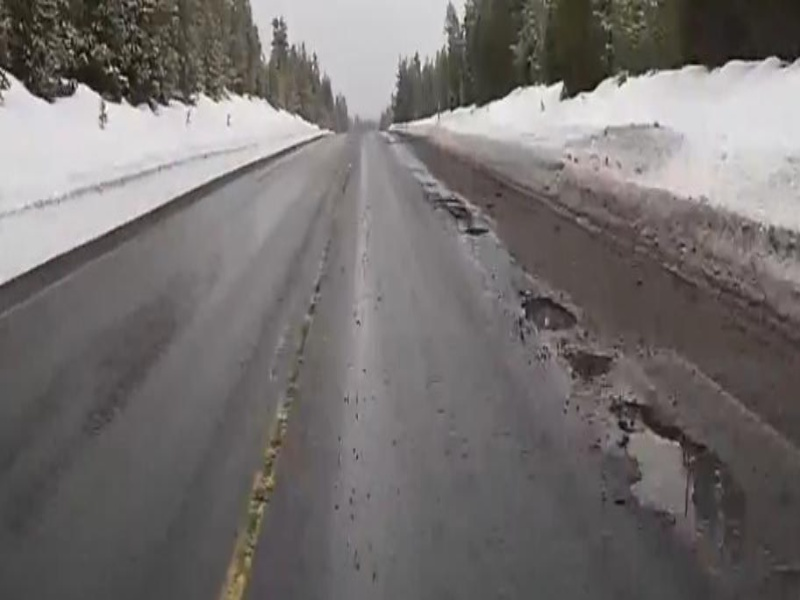pothole: (608, 398, 754, 573), (518, 293, 576, 337), (562, 349, 615, 385), (462, 226, 491, 238)
